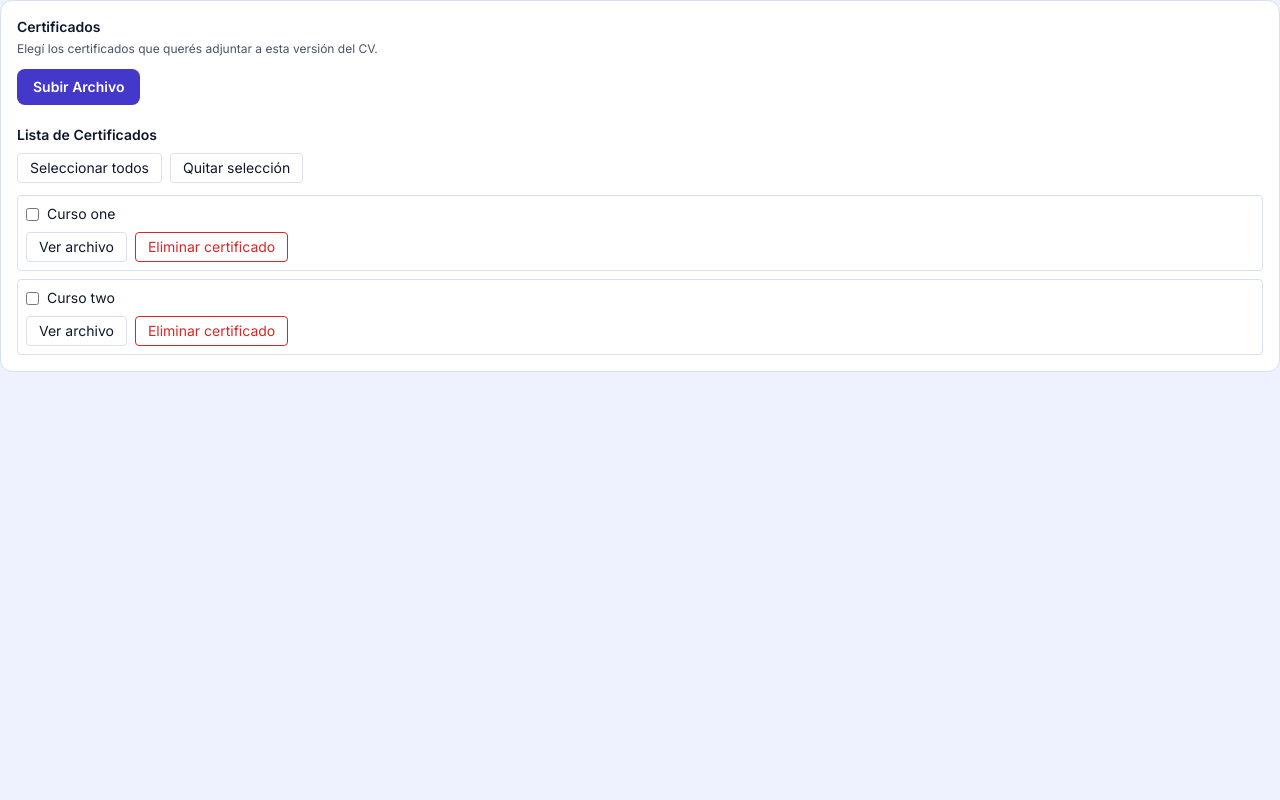
Test: Selección de certificados › conserva el certificado si falla la eliminación
This screenshot has width=1280, height=800.
Click the button with test id "certificate-delete-one" at (212, 247), box [135,232,288,262]
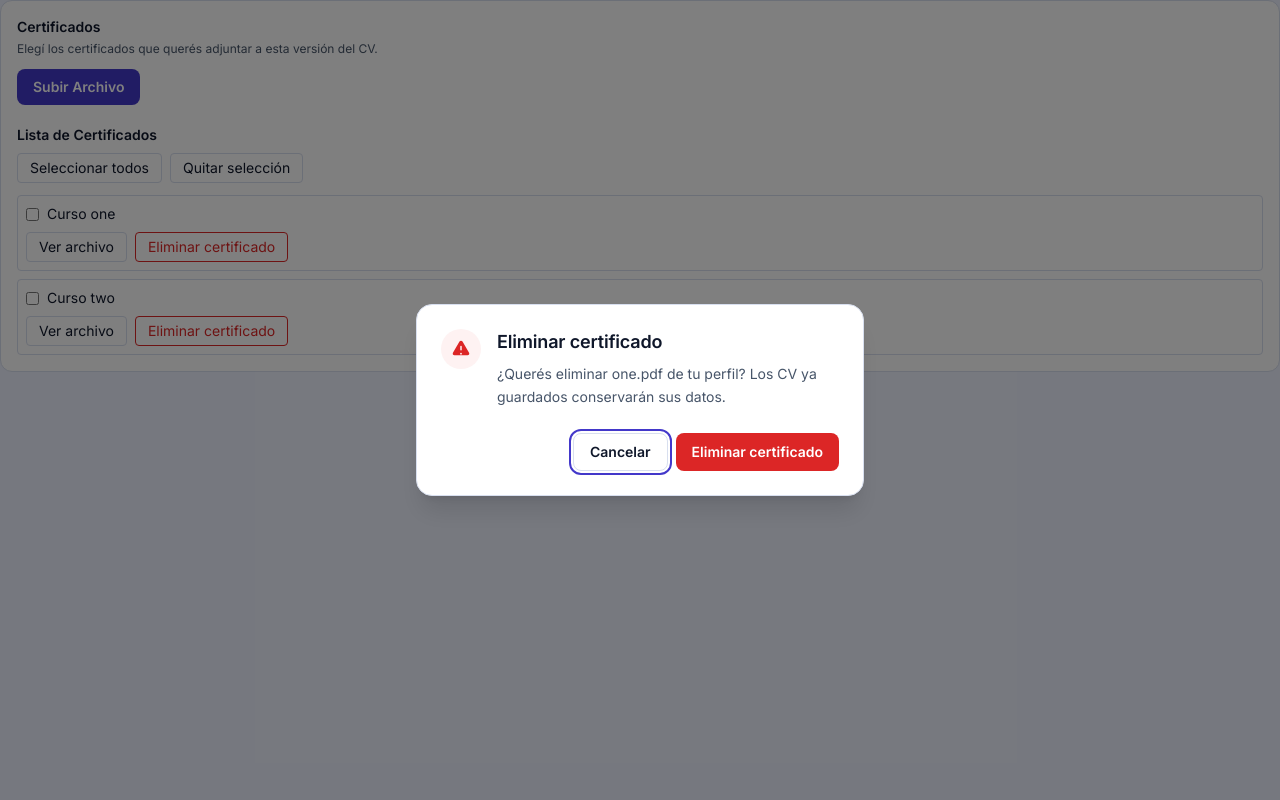
Click the button with test id "confirm-dialog-confirm" at (757, 452), box [676,433,839,471]
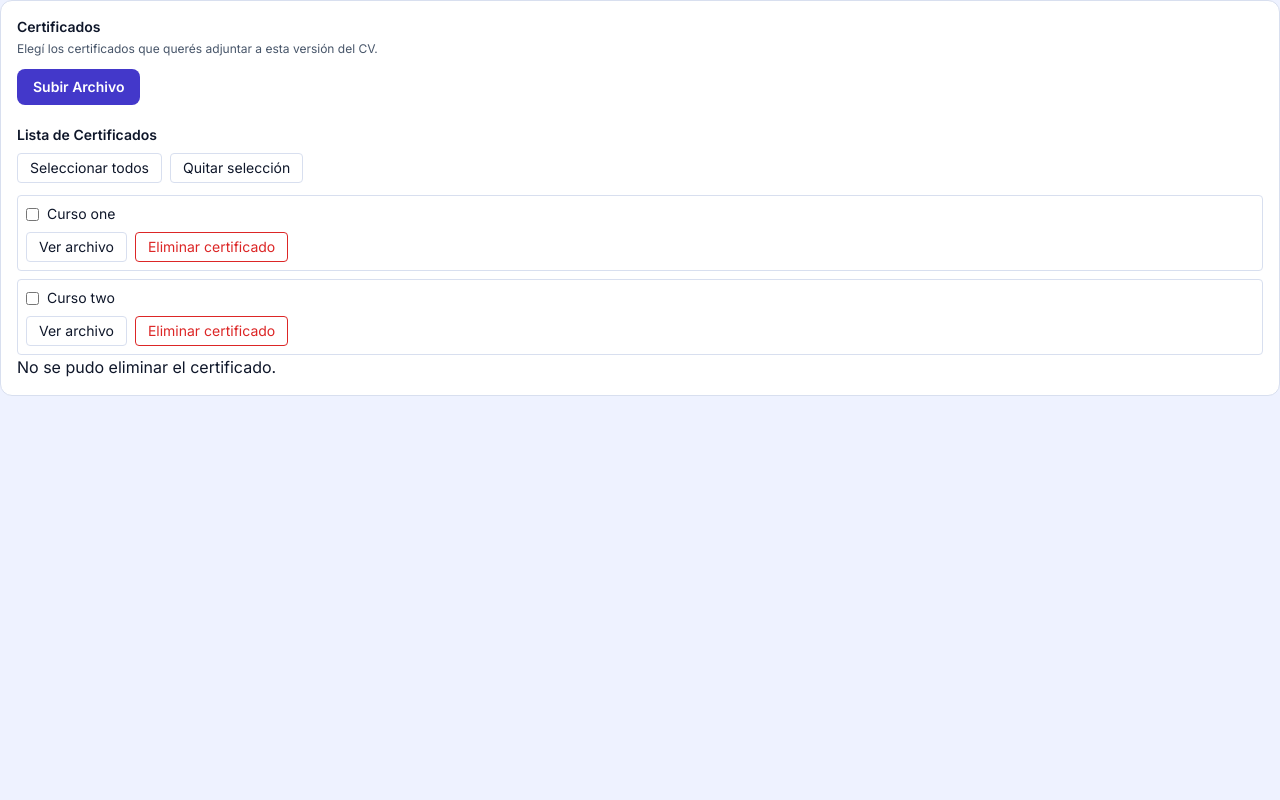
Expected: the checkbox with test id "certificate-checkbox-one" is shown, [26,208,39,220]
Result: the message shows "No se pudo eliminar" at [17,357,276,377]
